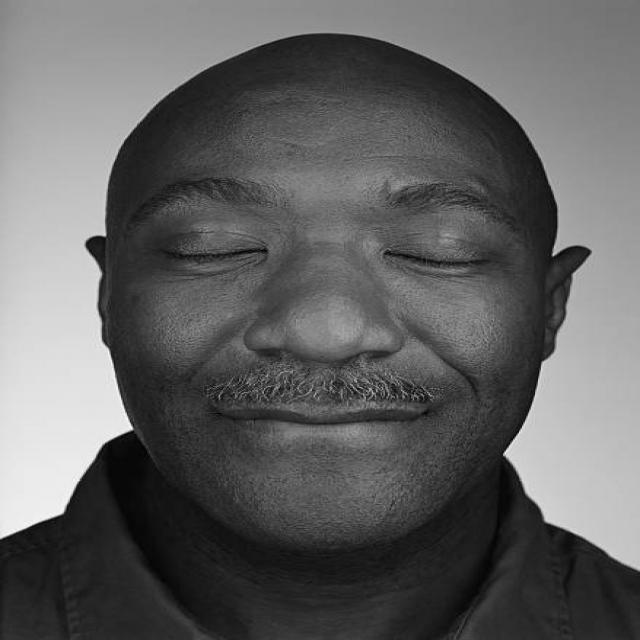real: (122, 108, 515, 479), (122, 172, 522, 300)
